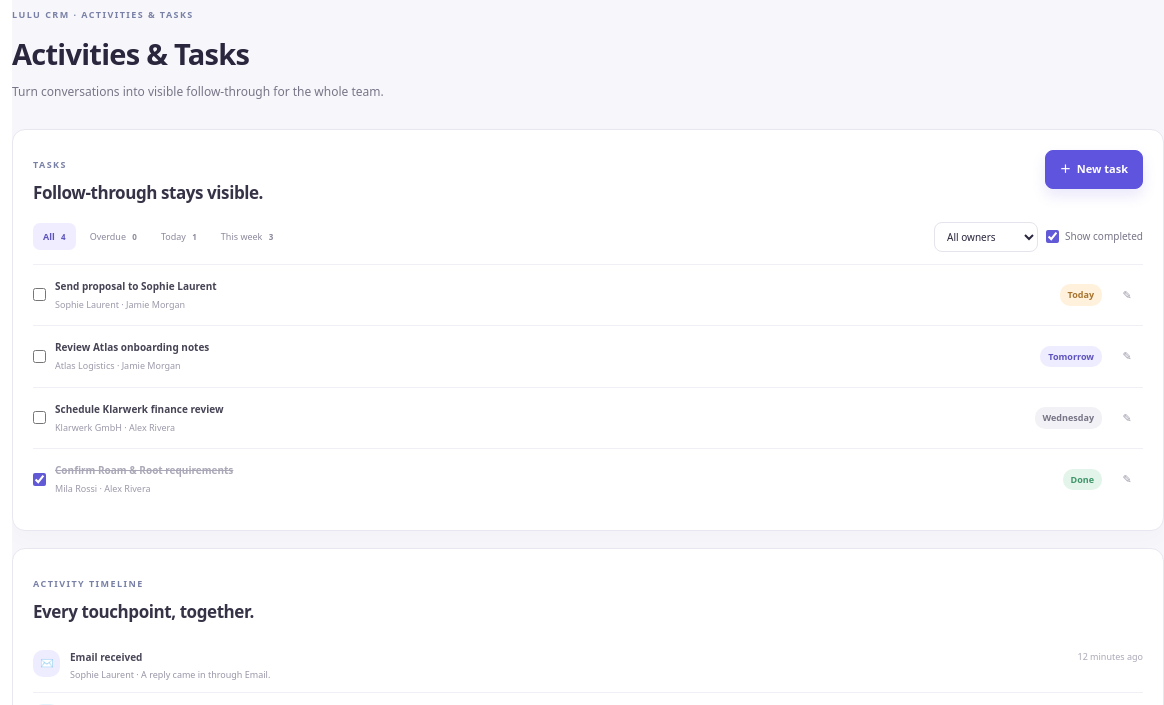
Test case: Activities & Tasks page › ticking a task marks it done and adds it to the timeline at once
Expected: the text "Send proposal to Sophie Laurent" is shown, [55,278,217,292]
Expected: the text "Email received" is shown, [70,650,142,664]
Click the checkbox labelled "Send proposal to Sophie Laurent".
click(40, 295)  # box [33,288,46,301]
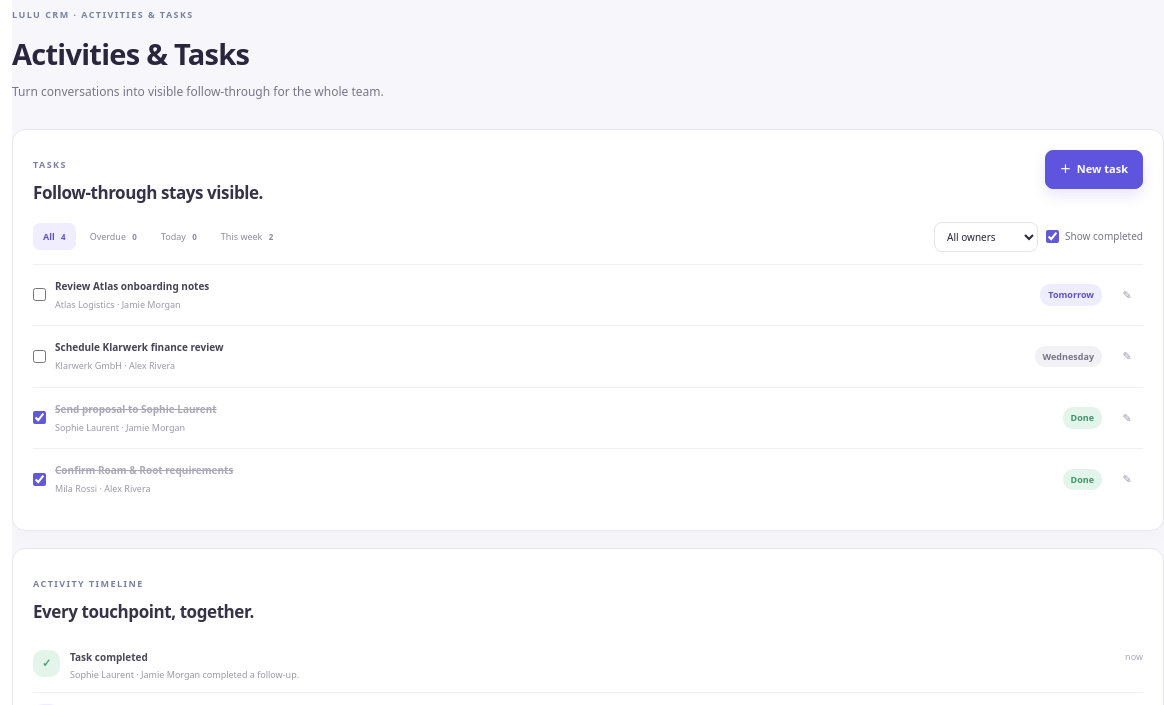
Expected: the text "Done" in the row of "Send proposal to Sophie Laurent" is shown, [1070,411,1094,424]
Expected: the text "Sophie Laurent · Jamie Morgan completed a follow-up." is shown, [70,668,299,681]
Expected: the text "Task completed" is shown, [70,650,148,664]
